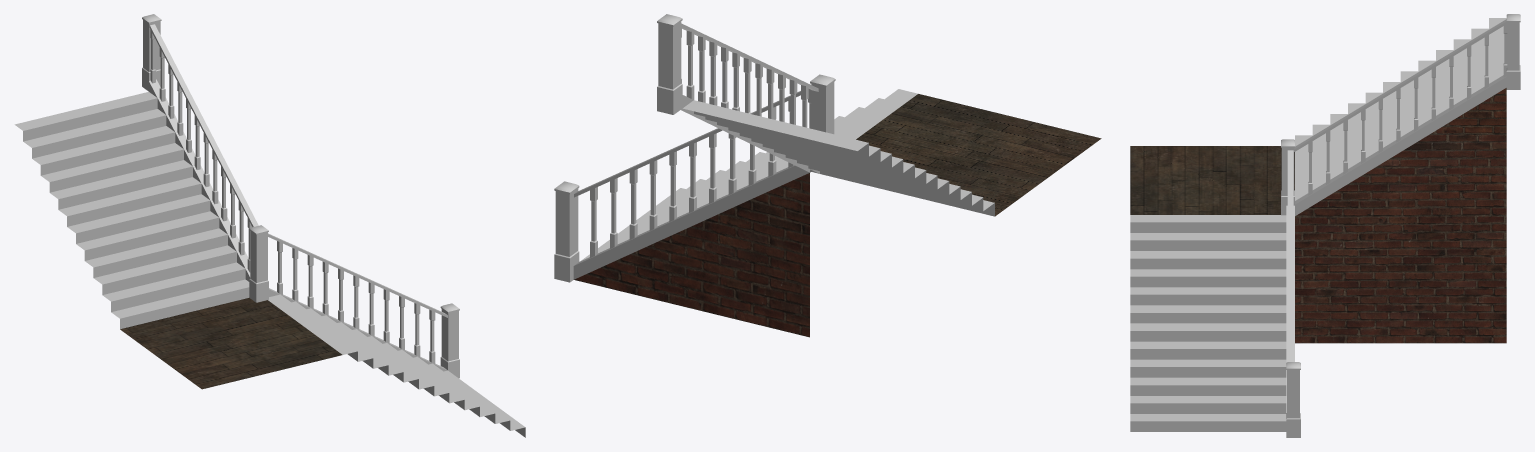
The model's file is downtown_staircase.fbx.
The picture shows the model from 3 angles, left to right: view 1: azimuth 30°, elevation 25°; view 2: azimuth 150°, elevation 25°; view 3: azimuth 270°, elevation 25°; orthographic projection. The views are drawn at different scales.
Visible parts, largest first — view 1: downtown_staircase; view 2: downtown_staircase; view 3: downtown_staircase.
Boxes of the visible parts, x1=… form: downtown_staircase: x1=14, y1=14, x2=525, y2=437; downtown_staircase: x1=554, y1=14, x2=1101, y2=337; downtown_staircase: x1=1130, y1=14, x2=1520, y2=437.
Size of the model in its own units: 264 by 245 by 265.
